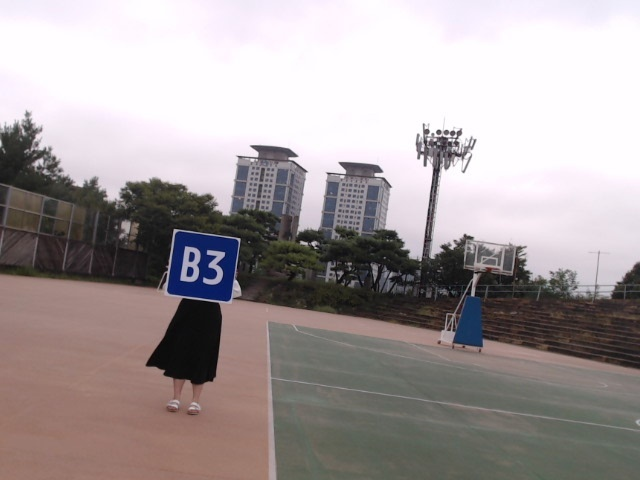delivery_b3: (167, 230, 240, 303)
